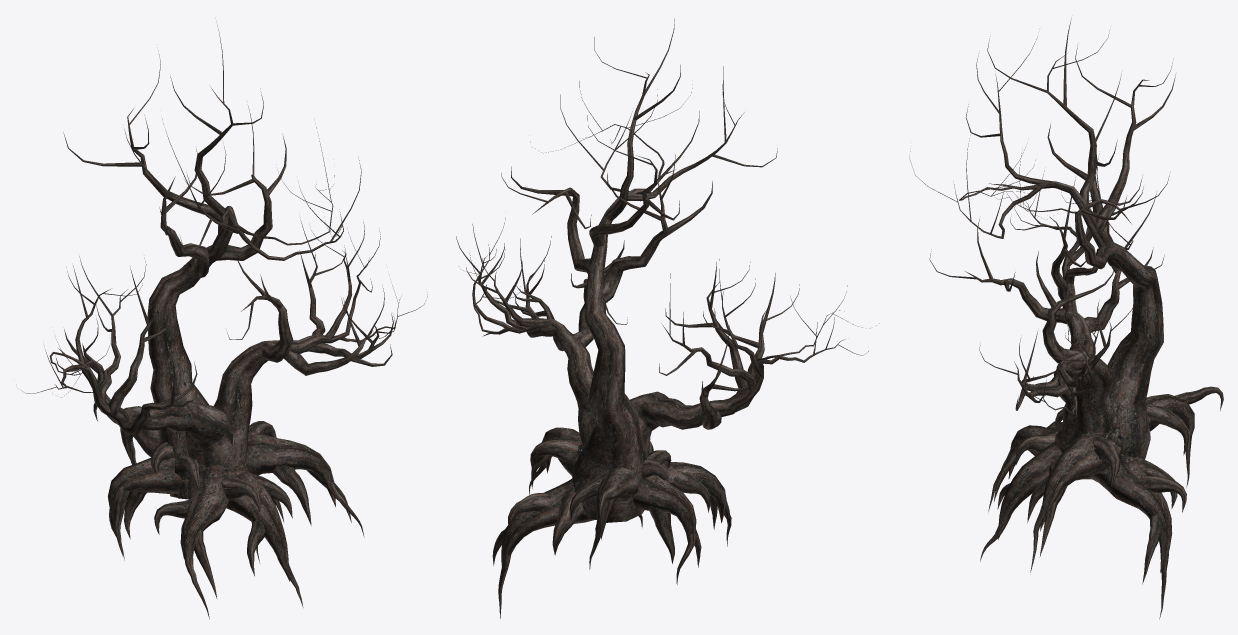
The model's file is DeadTree2_01.obj.
The picture shows the model from 3 angles, left to right: view 1: azimuth 30°, elevation 25°; view 2: azimuth 150°, elevation 25°; view 3: azimuth 270°, elevation 25°; orthographic projection. The views are drawn at different scales.
Parts seen in each view (by area): view 1: DeadTree2-01; view 2: DeadTree2-01; view 3: DeadTree2-01.
Part boxes in pixels (box(x1,y1,x2,y2)): DeadTree2-01: box(21, 22, 427, 619); DeadTree2-01: box(456, 18, 879, 618); DeadTree2-01: box(909, 18, 1223, 619).
Size of the model in its own units: 12.16 by 16.75 by 8.41.
Materials: 1 (1 with a texture image).
